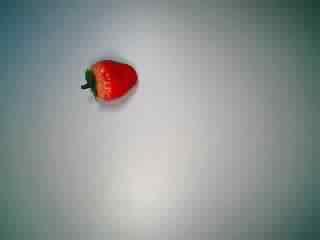strawberry: (73, 55, 138, 117)
